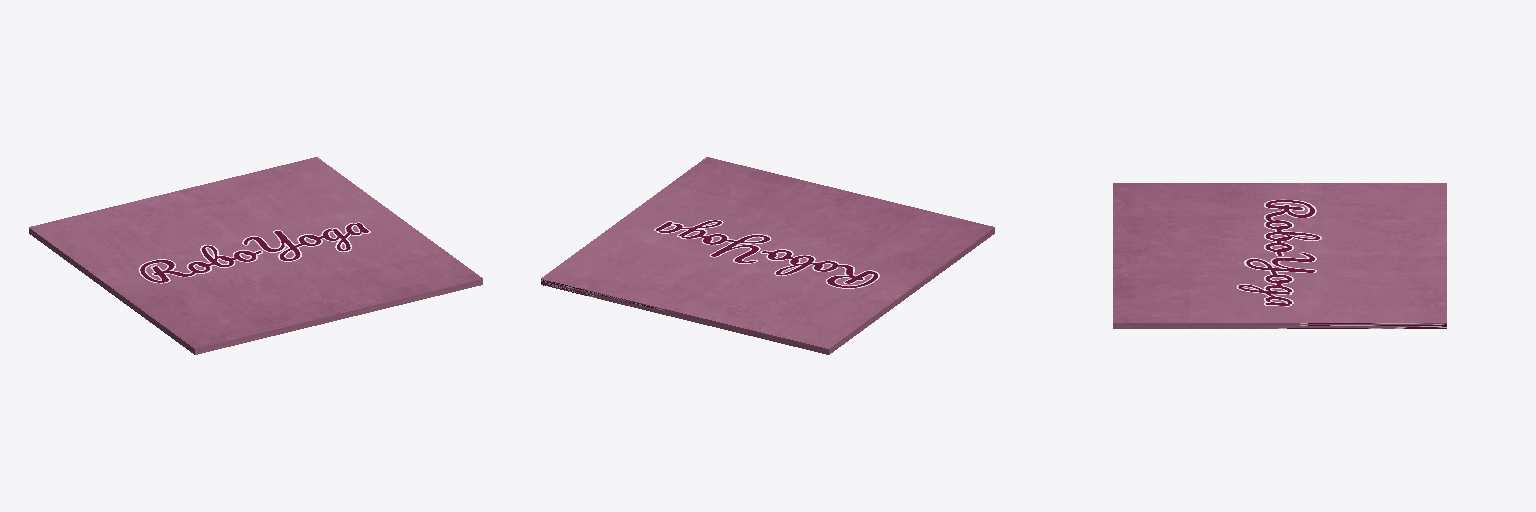
The picture shows the model from 3 angles: view 1: azimuth 30°, elevation 25°; view 2: azimuth 150°, elevation 25°; view 3: azimuth 270°, elevation 25°; orthographic projection.
Visible parts, largest first — view 1: Cube; view 2: Cube; view 3: Cube.
Boxes of the visible parts, box(x1,y1,x2,y2) form: Cube: box(29, 157, 482, 354); Cube: box(541, 157, 994, 354); Cube: box(1113, 183, 1446, 328).
Size of the model in its own units: 5 by 0.1 by 5.
1 materials, 1 textured.